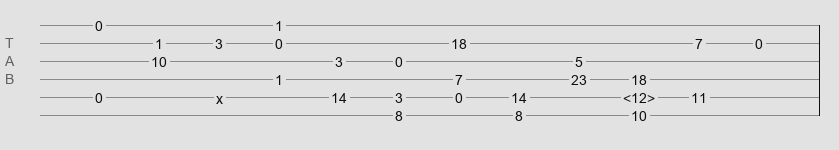0: (95, 90, 103, 100), (95, 18, 103, 28), (275, 36, 283, 46), (395, 54, 403, 64), (455, 90, 463, 100), (755, 36, 763, 46)
1: (155, 36, 163, 46), (275, 18, 283, 28), (275, 72, 283, 82)
10: (151, 54, 167, 64), (631, 108, 647, 118)
11: (691, 90, 707, 100)
14: (331, 90, 347, 100), (511, 90, 527, 100)
18: (451, 36, 467, 46), (631, 72, 647, 82)
23: (571, 72, 587, 82)
3: (215, 36, 223, 46), (335, 54, 343, 64), (395, 90, 403, 100)
5: (575, 54, 583, 64)
7: (455, 72, 463, 82), (695, 36, 703, 46)
8: (395, 108, 403, 118), (515, 108, 523, 118)
harmonic: (623, 90, 655, 100)
x: (216, 91, 223, 99)
